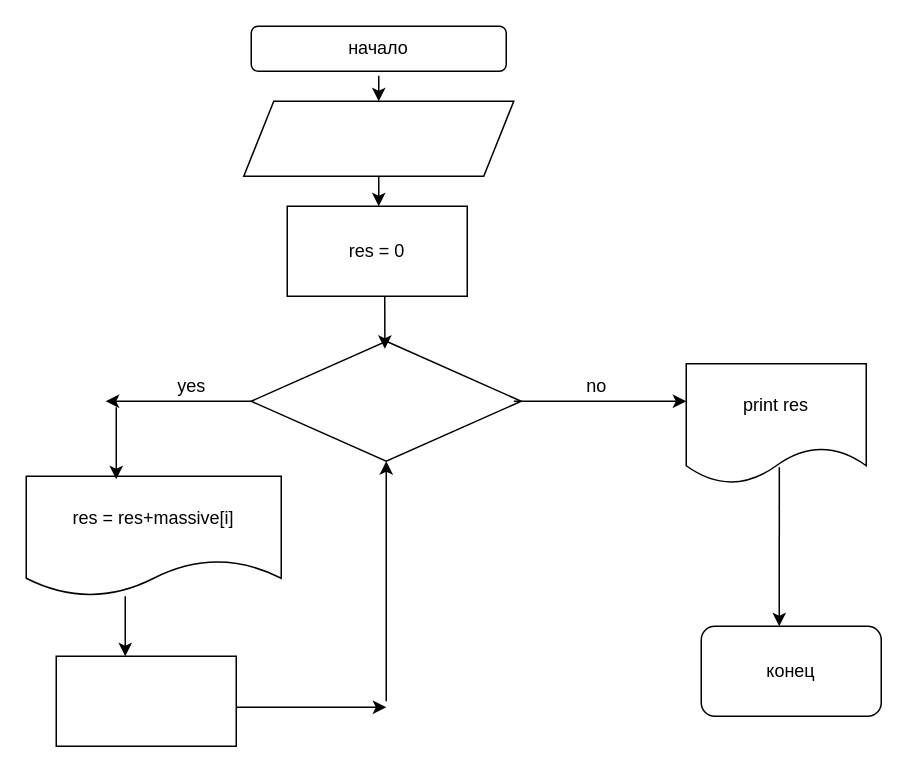
Some shapes in this 908 by 773 pixel diagram are drawn without their labels. The centre of each missing label's shape, as x and y in pixels:
"i=i+1" belongs at (x=145, y=700).
"Length.massive[i]<= 3" belongs at (x=385, y=400).
"string [] massive, string res" belongs at (x=378, y=138).
